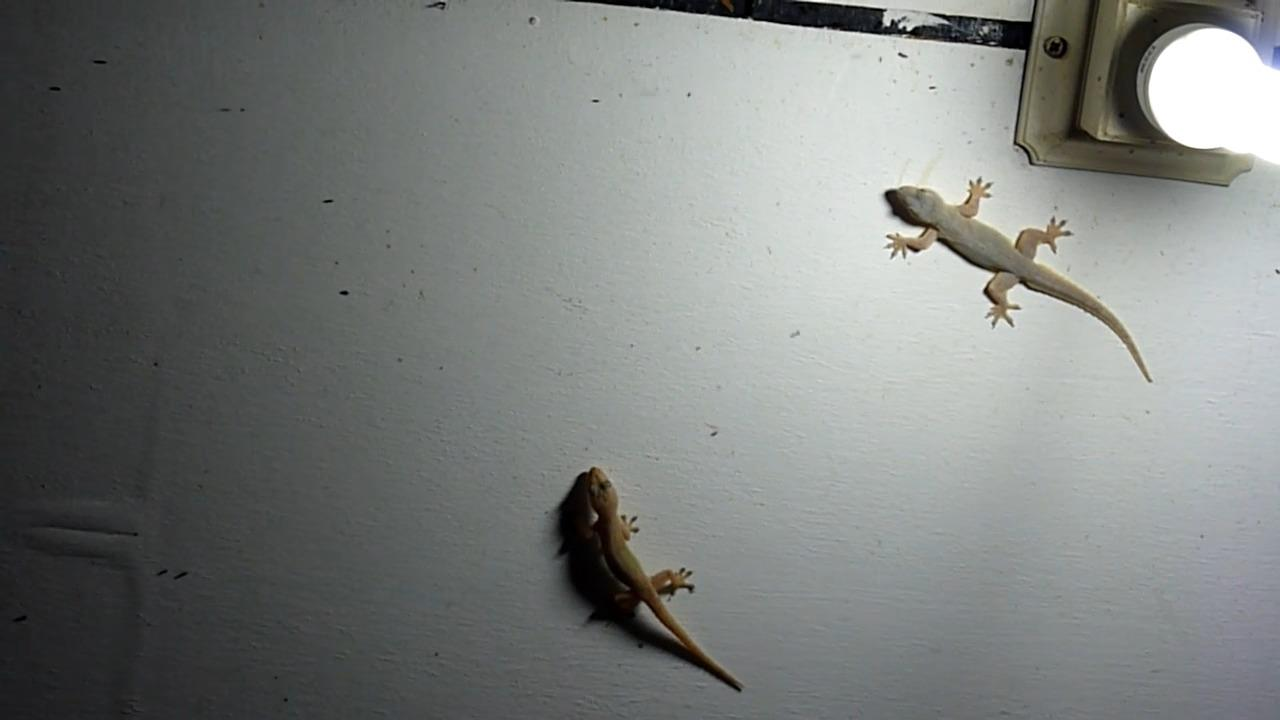lizard: (857, 173, 1163, 391), (529, 454, 778, 712)
